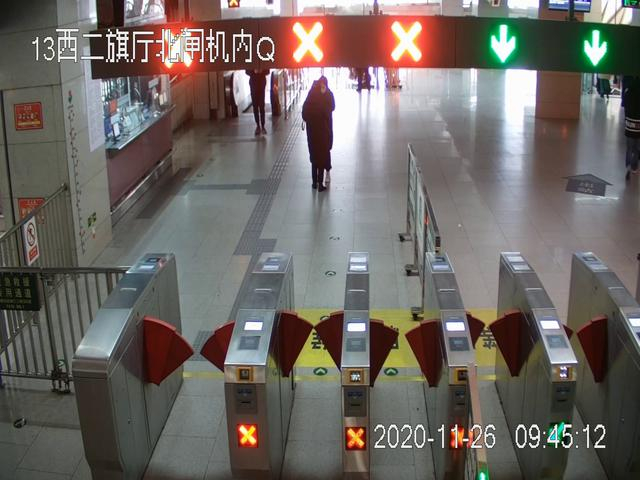person: (301, 80, 338, 191), (244, 58, 274, 137)
